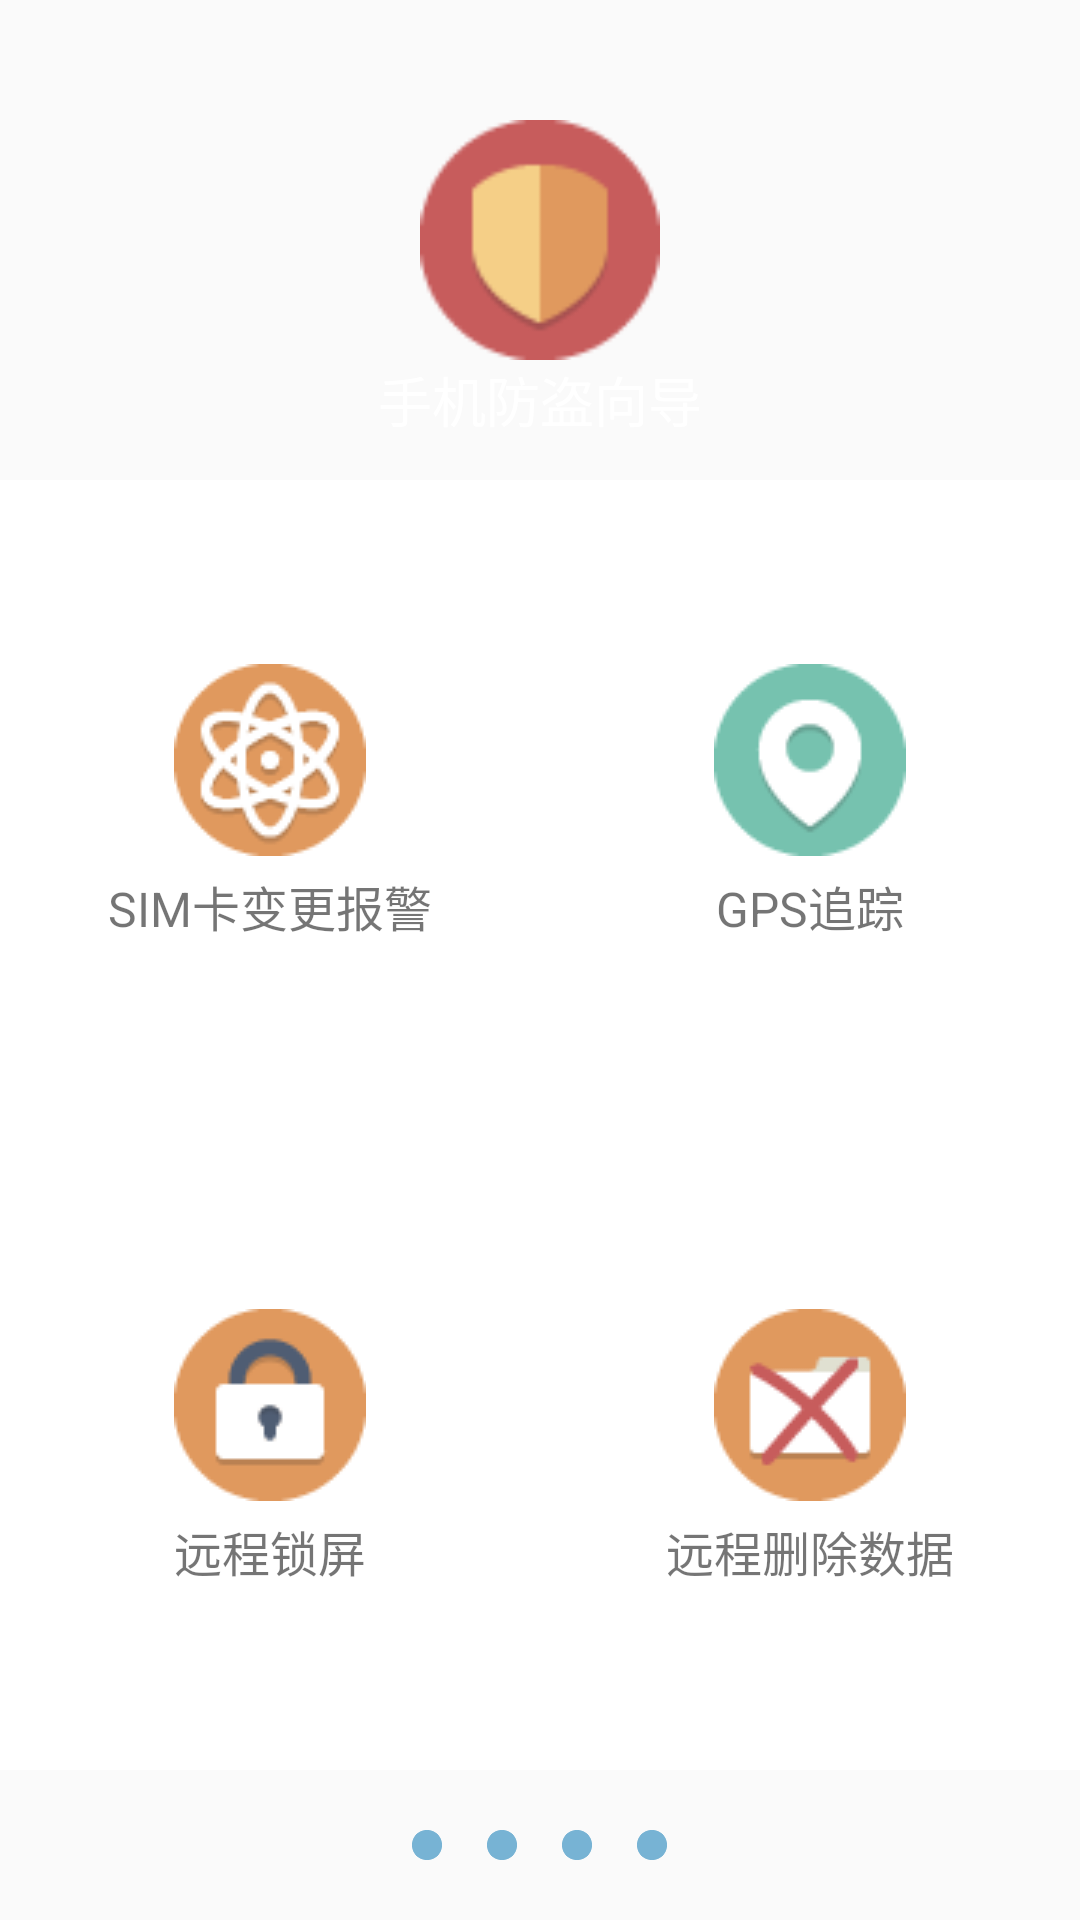

Where to tap for icons on this 1080px x 1920px app screen, as (x,y):
app: (540,240)
